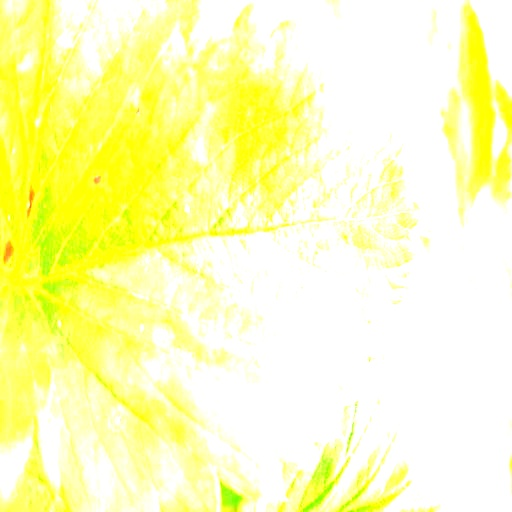Leaf Spot: (31, 0, 428, 511)
